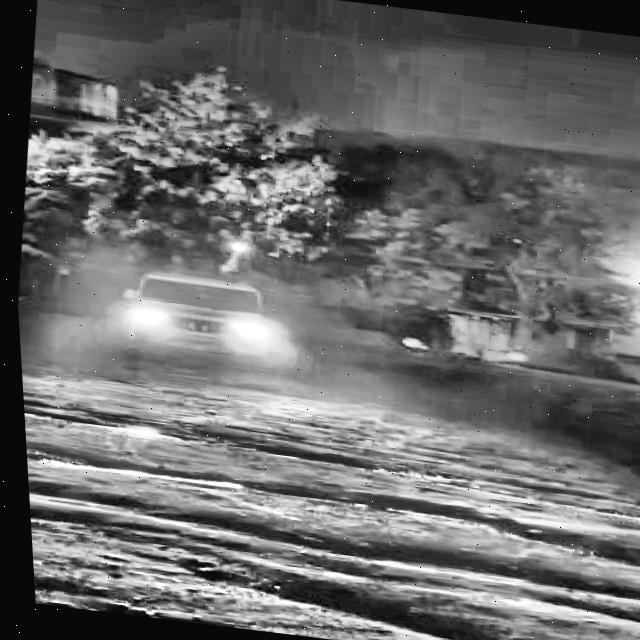light_vehicle: (111, 264, 285, 368)
